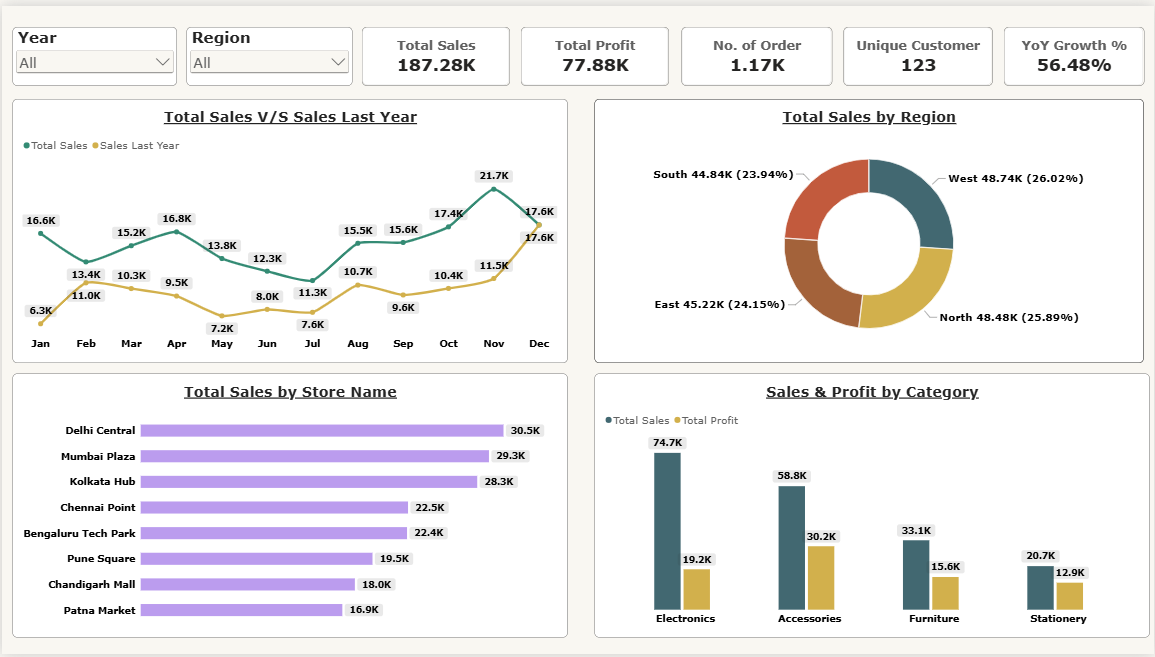

The dashboard page shown, as its layout file describes it:
{"tool":"powerbi","page":{"name":"Overview","canvas":[1920,1080],"ordinal":0},"visuals":[{"type":"cardVisual","fields":{"Data":["Measure Table.Total Sales"]},"box":[600.9,35.2,246.4,98.1],"z":0},{"type":"cardVisual","fields":{"Data":["Measure Table.Total Profit"]},"box":[864.9,35.2,246.4,98.1],"z":1000},{"type":"cardVisual","fields":{"Data":["Measure Table.Number of Order"]},"box":[1131.4,35.2,251.4,98.1],"z":2000},{"type":"cardVisual","fields":{"Data":["Measure Table.Unique Customers"]},"box":[1402.9,35.2,248.9,98.1],"z":3000},{"type":"cardVisual","fields":{"Data":["Measure Table.YoY Growth %"]},"box":[1669.4,35.2,233.8,98.1],"z":4000},{"type":"slicer","fields":{"Values":["Date Table.Year"]},"box":[17.6,35.2,274.1,98.1],"z":5000},{"type":"slicer","fields":{"Values":["Stores.Region"]},"box":[306.7,35.2,276.6,98.1],"z":6000},{"type":"lineChart","title":"Total Sales V/S Sales Last Year","fields":{"Category":["Date Table.Month"],"Y":["Measure Table.Total Sales","Measure Table.Sales Last Year"]},"box":[17.6,155.9,925.2,440],"z":7000},{"type":"donutChart","fields":{"Category":["Stores.Region"],"Y":["Measure Table.Total Sales"]},"box":[988.1,155.9,915.2,440],"z":8000},{"type":"barChart","title":"Total Sales by Store Name","fields":{"Category":["Stores.StoreName"],"Y":["Measure Table.Total Sales"]},"box":[17.6,613.5,925.2,440],"z":9000},{"type":"clusteredColumnChart","title":"Sales & Profit by Category","fields":{"Category":["Products.Category"],"Y":["Measure Table.Total Sales","Measure Table.Total Profit"]},"box":[987.8,613.2,925.2,440],"z":10000}]}

Visuals, with their boxes in screenshot pixels (x1, y1, x2, y2), scaled from the page's 1920x1080 canvas onto the 1155x657 screenshot:
cardVisual - Measure Table.Total Sales: 361,21,510,81
cardVisual - Measure Table.Total Profit: 520,21,669,81
cardVisual - Measure Table.Number of Order: 681,21,832,81
cardVisual - Measure Table.Unique Customers: 844,21,994,81
cardVisual - Measure Table.YoY Growth %: 1004,21,1145,81
slicer - Date Table.Year: 11,21,175,81
slicer - Stores.Region: 184,21,351,81
"Total Sales V/S Sales Last Year" lineChart: 11,95,567,363
donutChart - Stores.Region x Measure Table.Total Sales: 594,95,1145,363
"Total Sales by Store Name" barChart: 11,373,567,641
"Sales & Profit by Category" clusteredColumnChart: 594,373,1151,641
